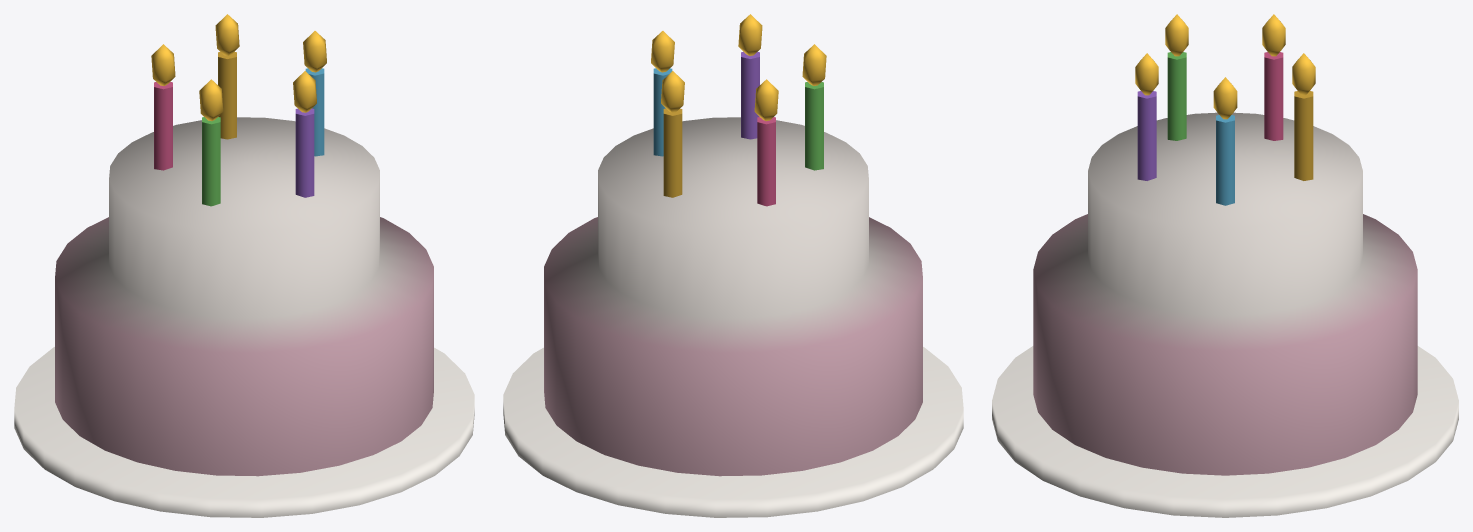
File: furn_birthday_cake.glb
3 views of the same model, side by side, from view 1: azimuth 30°, elevation 25°; view 2: azimuth 150°, elevation 25°; view 3: azimuth 270°, elevation 25° (orthographic).
Parts seen in each view (by area): view 1: furn_birthday_cake_main, furn_birthday_cake_gloss, furn_birthday_cake_glow; view 2: furn_birthday_cake_main, furn_birthday_cake_gloss, furn_birthday_cake_glow; view 3: furn_birthday_cake_main, furn_birthday_cake_gloss, furn_birthday_cake_glow.
Part boxes in pixels (x1,y1,x2,y2): furn_birthday_cake_main: [55, 51, 433, 476]; furn_birthday_cake_gloss: [14, 347, 474, 517]; furn_birthday_cake_glow: [151, 14, 326, 121]; furn_birthday_cake_main: [544, 51, 922, 476]; furn_birthday_cake_gloss: [503, 347, 963, 517]; furn_birthday_cake_glow: [651, 14, 826, 121]; furn_birthday_cake_main: [1033, 52, 1417, 475]; furn_birthday_cake_gloss: [992, 346, 1458, 517]; furn_birthday_cake_glow: [1135, 14, 1315, 119].
Bounding box in the file's own units: 0.34 × 0.303 × 0.34.
